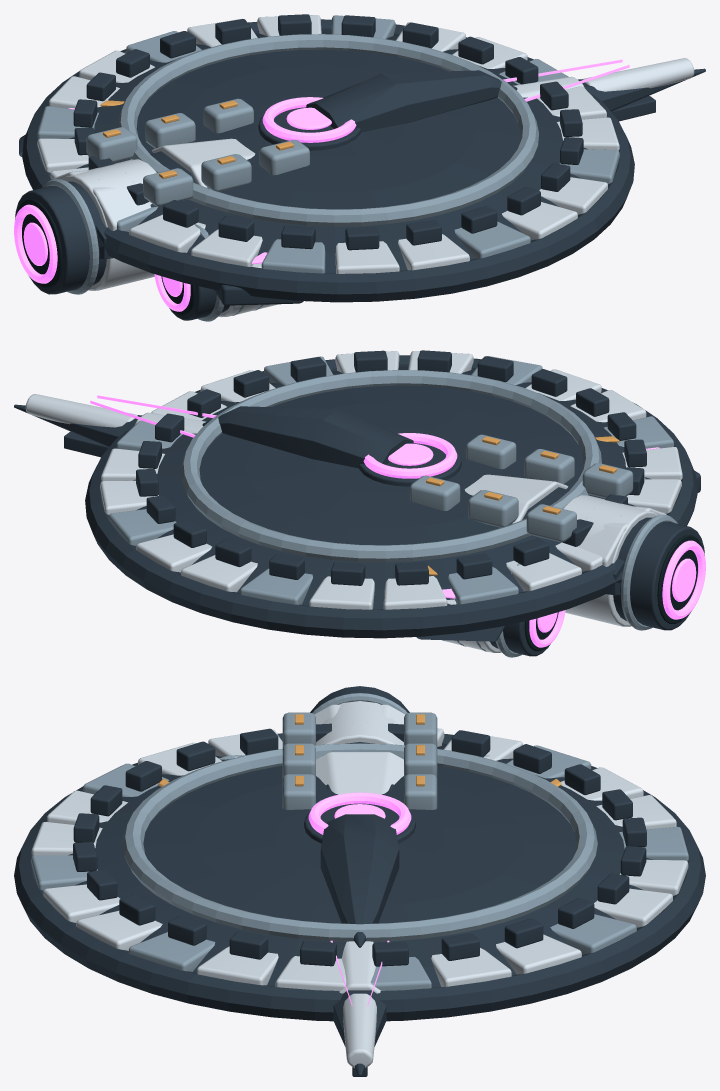
File: ship-15.glb
The picture shows the model from 3 angles, top to bottom: view 1: azimuth 30°, elevation 25°; view 2: azimuth 150°, elevation 25°; view 3: azimuth 270°, elevation 25°; orthographic projection. The views are drawn at different scales.
Visible parts, largest first — view 1: Graphite frame, Machined silver, Ceramic titanium, Ion violet, Carbon insets, Copper contacts; view 2: Graphite frame, Machined silver, Ceramic titanium, Ion violet, Carbon insets, Copper contacts; view 3: Graphite frame, Machined silver, Ceramic titanium, Ion violet, Copper contacts.
Boxes of the visible parts, left/top/right/bottom form: Graphite frame: left=15, top=14, right=705, bottom=320; Machined silver: left=37, top=15, right=619, bottom=321; Ceramic titanium: left=37, top=15, right=694, bottom=317; Ion violet: left=14, top=59, right=629, bottom=311; Carbon insets: left=17, top=199, right=195, bottom=315; Copper contacts: left=100, top=100, right=293, bottom=178; Graphite frame: left=14, top=350, right=704, bottom=656; Machined silver: left=109, top=356, right=677, bottom=657; Ceramic titanium: left=25, top=351, right=682, bottom=652; Ion violet: left=90, top=395, right=705, bottom=647; Carbon insets: left=524, top=535, right=702, bottom=651; Copper contacts: left=426, top=436, right=619, bottom=575; Graphite frame: left=14, top=686, right=705, bottom=1076; Machined silver: left=31, top=693, right=688, bottom=990; Ceramic titanium: left=31, top=701, right=688, bottom=1067; Ion violet: left=308, top=792, right=411, bottom=1006; Copper contacts: left=158, top=714, right=561, bottom=786.
Size of the model in its own units: 5.61 by 1.1 by 4.63.
